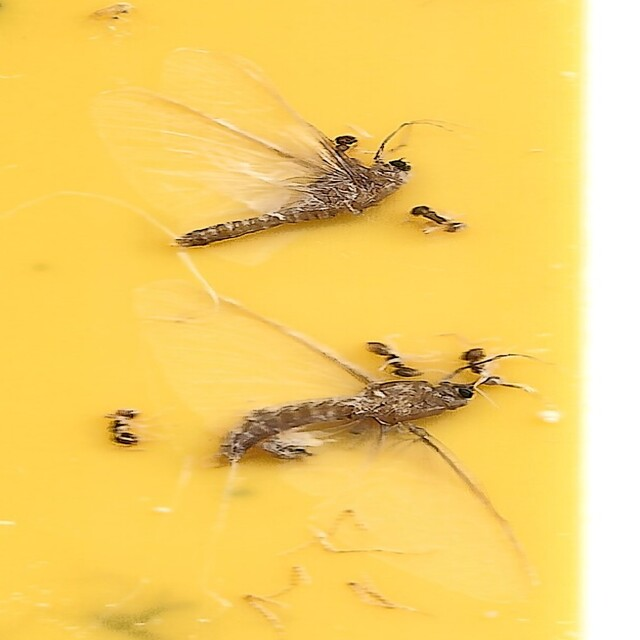Ephemeroptera: (198, 291, 538, 583), (152, 57, 416, 252)
Isoptera: (361, 338, 425, 380), (456, 347, 508, 389), (406, 202, 468, 237), (102, 405, 148, 448)
